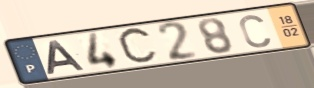2: (157, 19, 202, 65)
4: (86, 31, 121, 71)
8: (197, 16, 236, 55)
A: (46, 39, 89, 76)
C: (115, 25, 160, 67), (237, 14, 273, 50)
